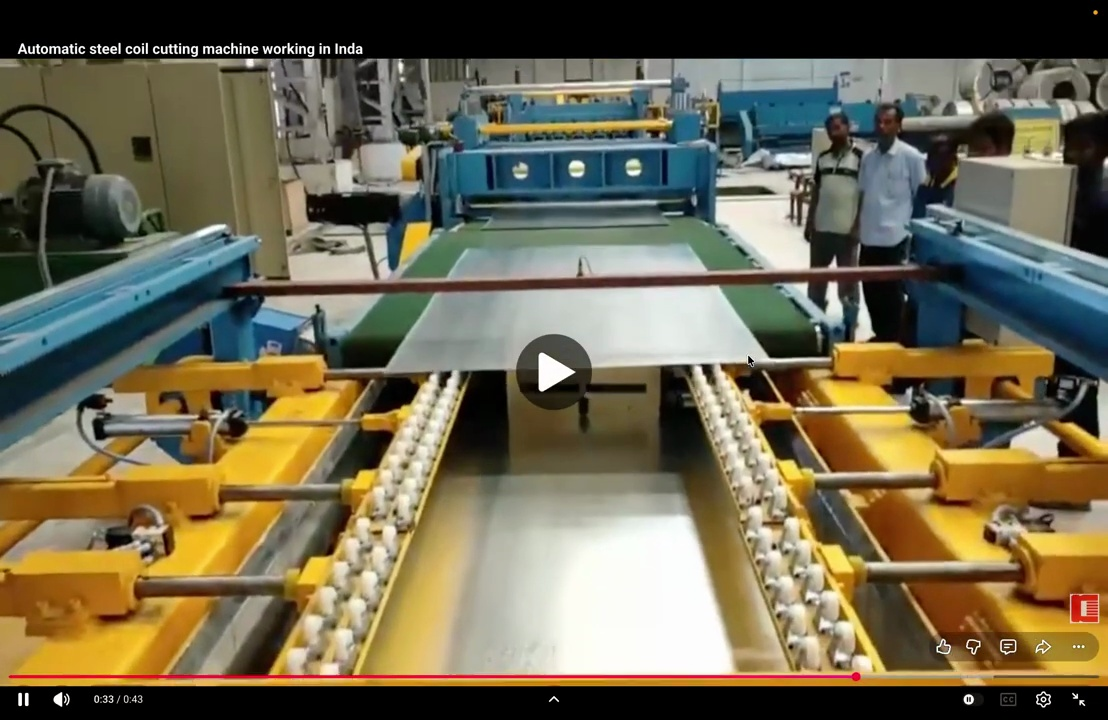steel plate: (387, 288, 763, 373), (482, 206, 668, 230)
